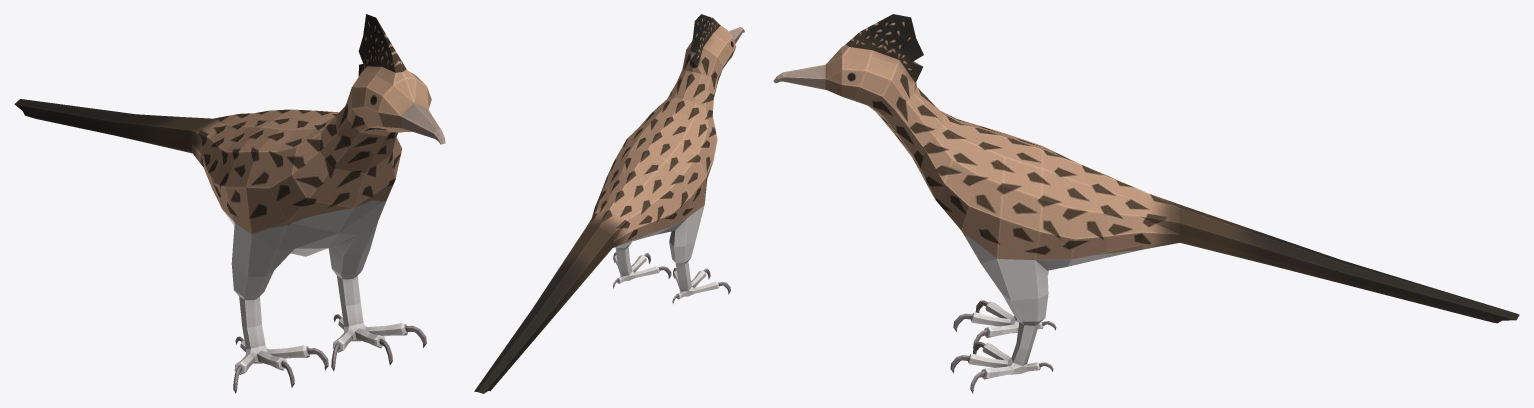
The model's file is correcaminos.glb.
3 views of the same model, side by side, from view 1: azimuth 30°, elevation 25°; view 2: azimuth 150°, elevation 25°; view 3: azimuth 270°, elevation 25° (orthographic). The views are drawn at different scales.
Visible parts, largest first — view 1: Roadrunner_mesh; view 2: Roadrunner_mesh; view 3: Roadrunner_mesh.
Part boxes in pixels (left/top/right/bottom): Roadrunner_mesh: left=14, top=14, right=445, bottom=393; Roadrunner_mesh: left=474, top=14, right=744, bottom=393; Roadrunner_mesh: left=773, top=14, right=1519, bottom=393.
Bounding box in the file's own units: 4.92 × 9.64 × 19.02.
1 material, 1 textured.
